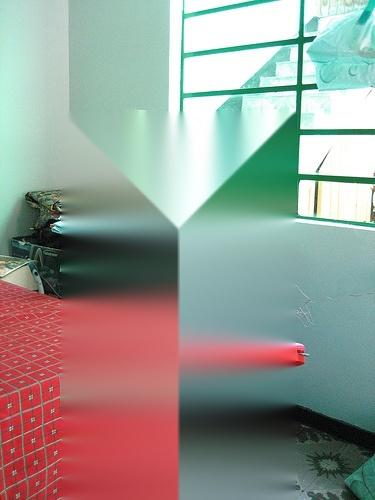diningtable: (1, 279, 208, 500)
